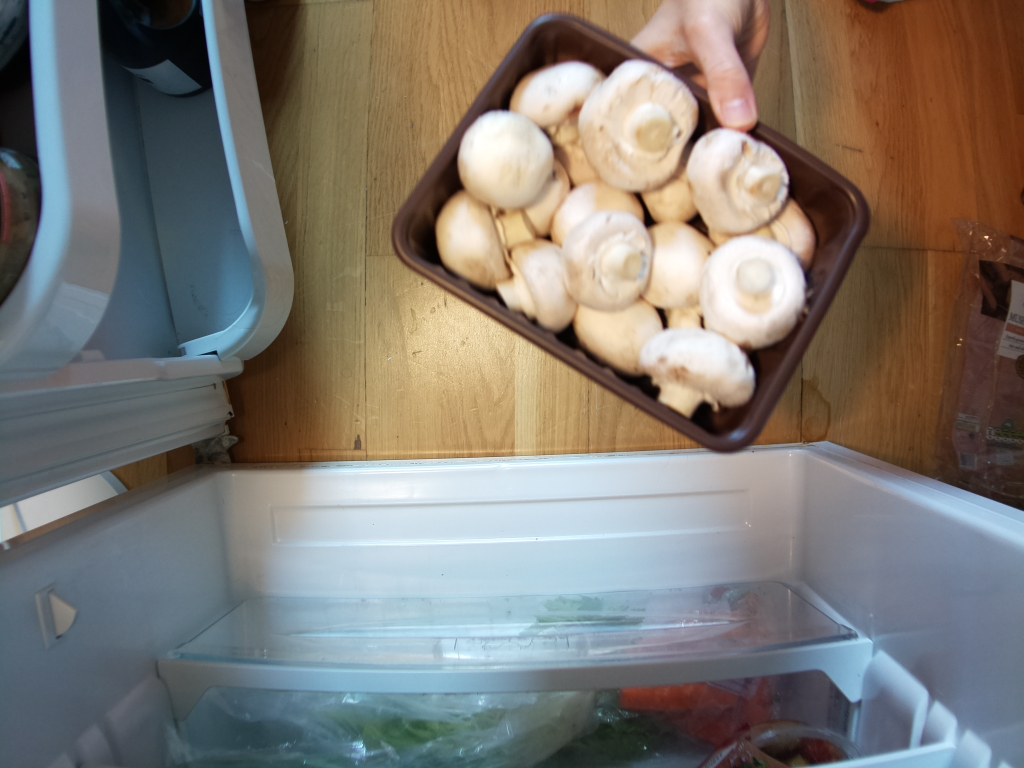mushrooms: (380, 11, 873, 470)
